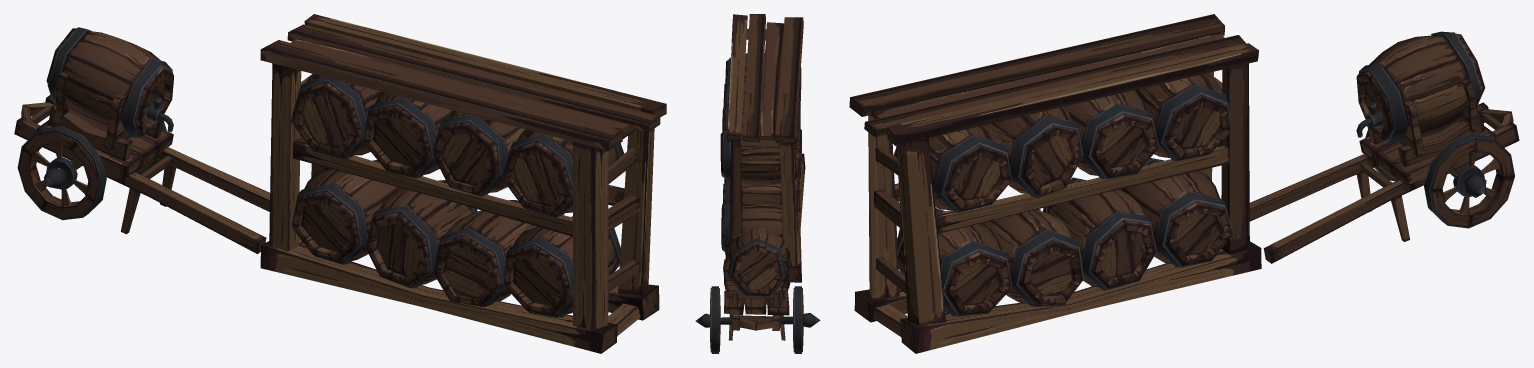
The model's file is RoomsObstaclesa.fbx.
3 renders of one model, left to right at view 1: azimuth 30°, elevation 25°; view 2: azimuth 150°, elevation 25°; view 3: azimuth 270°, elevation 25°, orthographic. The views are drawn at different scales.
Parts seen in each view (by area): view 1: SM_PROP_barrel_shelf_dungeon_01.001, SM_PROP_cart_barrel_dungeon.001; view 2: SM_PROP_barrel_shelf_dungeon_01.001, SM_PROP_cart_barrel_dungeon.001; view 3: SM_PROP_barrel_shelf_dungeon_01.001, SM_PROP_cart_barrel_dungeon.001.
Boxes of the visible parts, x1,y1,x2,y2 form: SM_PROP_barrel_shelf_dungeon_01.001: (260, 14, 666, 353); SM_PROP_cart_barrel_dungeon.001: (14, 27, 270, 253); SM_PROP_barrel_shelf_dungeon_01.001: (720, 14, 805, 282); SM_PROP_cart_barrel_dungeon.001: (695, 225, 820, 353); SM_PROP_barrel_shelf_dungeon_01.001: (849, 14, 1261, 353); SM_PROP_cart_barrel_dungeon.001: (1249, 31, 1519, 263).
Size of the model in its own units: 5.08 by 2.91 by 7.73.
Materials: 2 (2 with a texture image).
